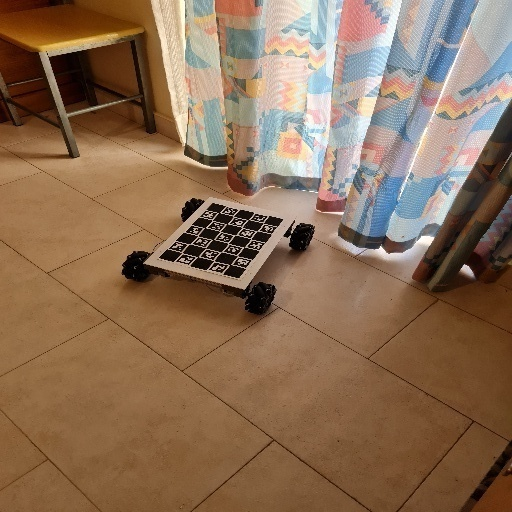Omniwheel: (122, 194, 317, 317)
